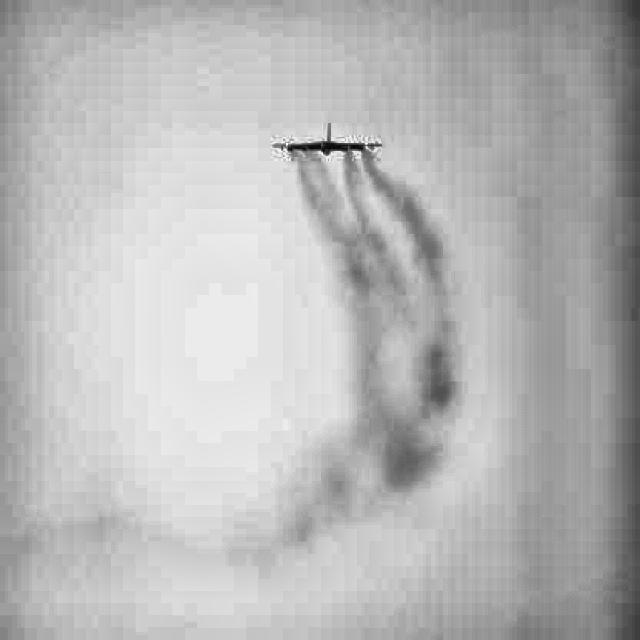B52: (273, 122, 382, 156)
